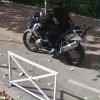Motorcycle: (17, 4, 91, 68)
